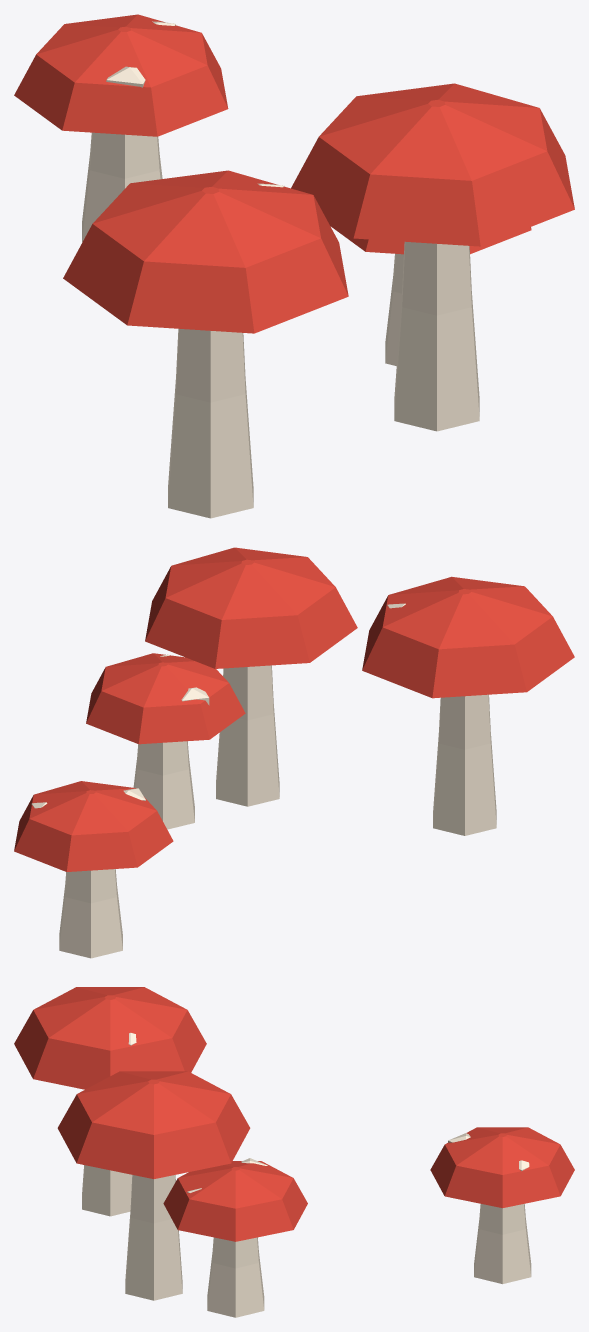
File: mushrooms.glb
3 views of the same model, one above another, from view 1: azimuth 30°, elevation 25°; view 2: azimuth 150°, elevation 25°; view 3: azimuth 270°, elevation 25° (orthographic). The views are drawn at different scales.
Parts seen in each view (by area): view 1: mushrooms-m; view 2: mushrooms-m; view 3: mushrooms-m.
Part boxes in pixels (x1,y1,x2,y2): mushrooms-m: (14, 14, 574, 518); mushrooms-m: (14, 547, 574, 958); mushrooms-m: (14, 987, 574, 1317).
Bounding box in the file's own units: 0.9781 × 0.5488 × 1.36.
